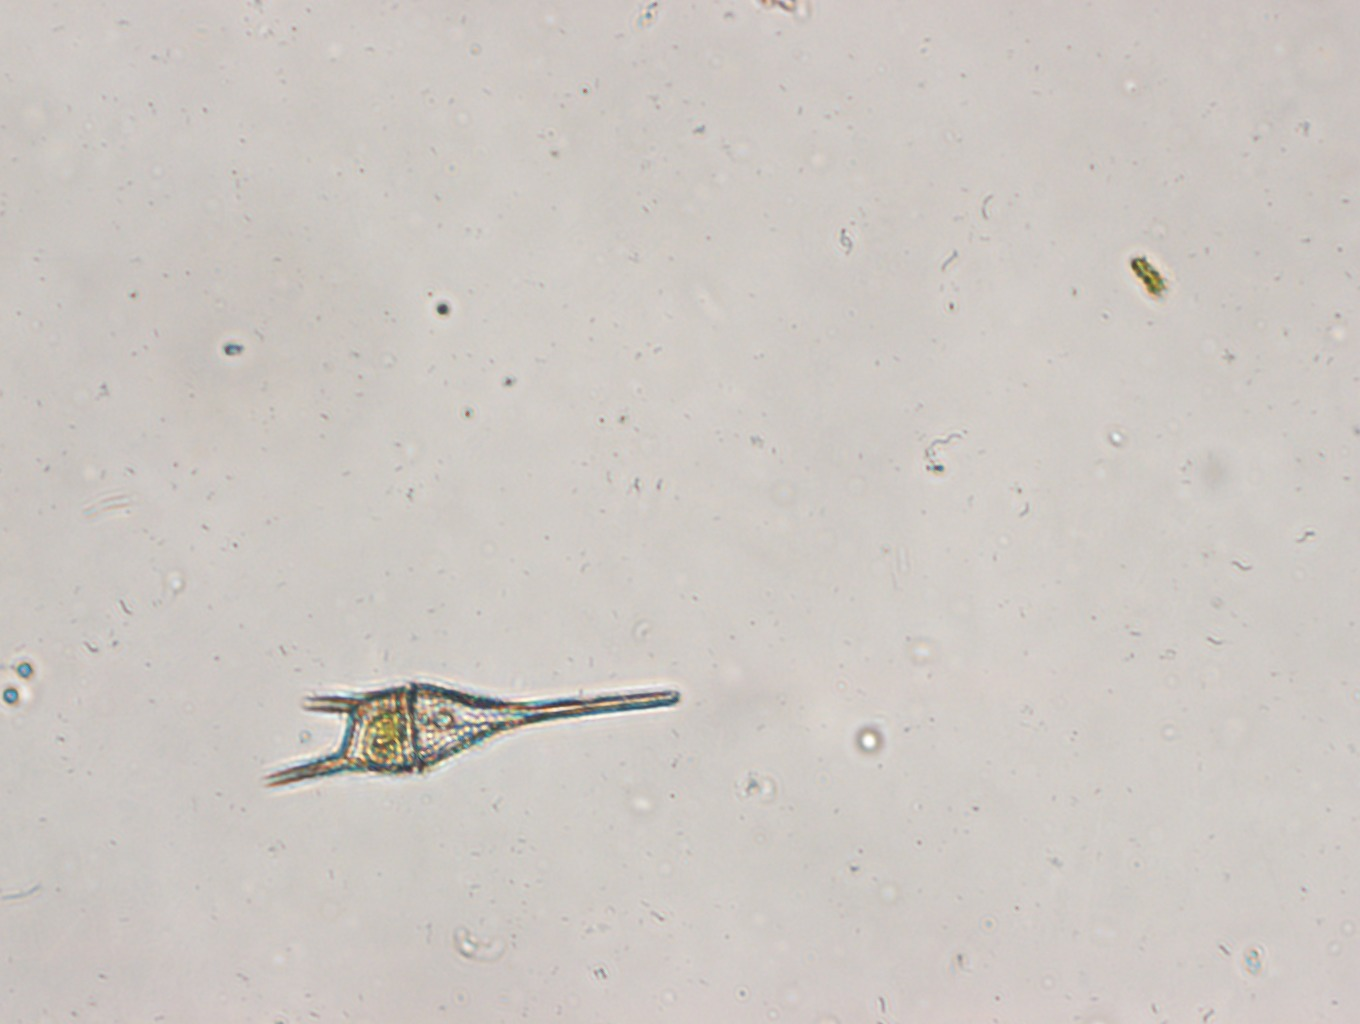ceratium furca: (253, 667, 689, 794)
